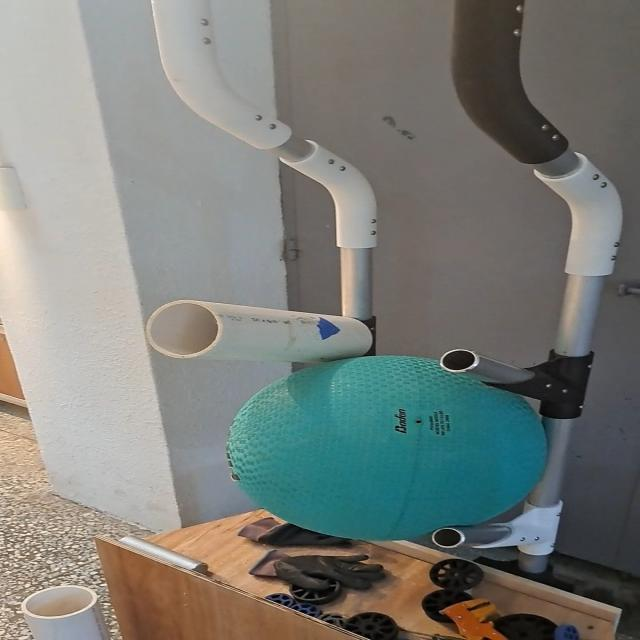ALGAE: (219, 347, 548, 542)
CORAL: (136, 294, 385, 368)
